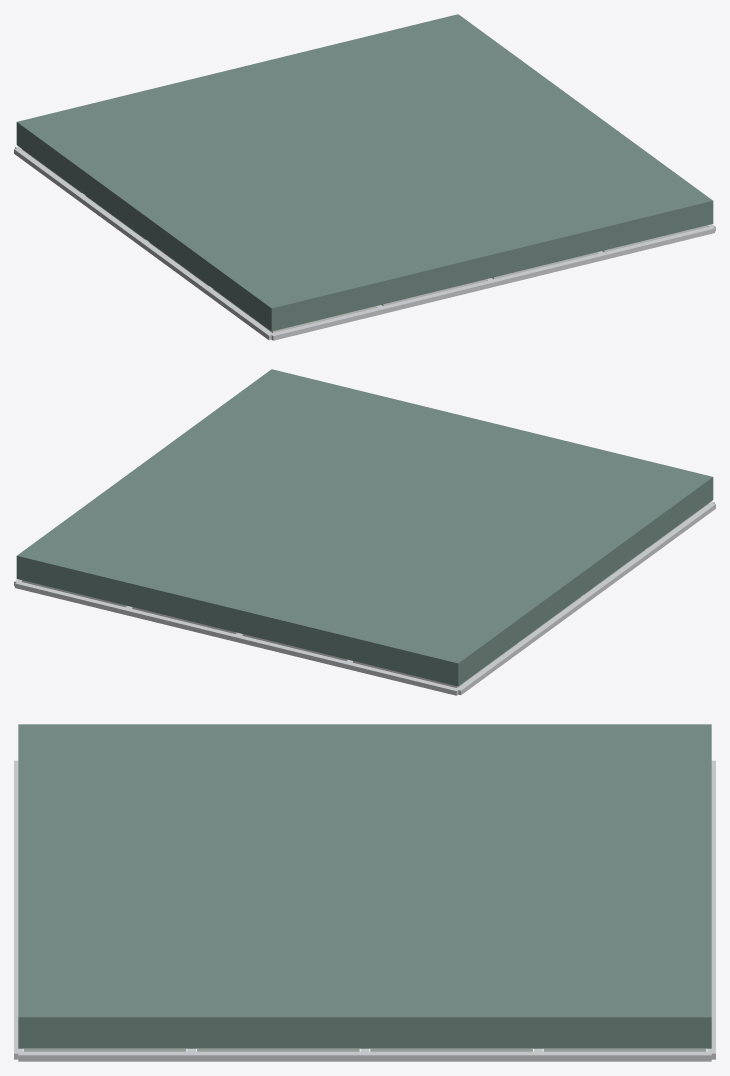
File: ceil_hs_rail.glb
3 views of the same model, one above another, from view 1: azimuth 30°, elevation 25°; view 2: azimuth 150°, elevation 25°; view 3: azimuth 270°, elevation 25° (orthographic). The views are drawn at different scales.
Parts seen in each view (by area): view 1: ceil_hs_rail; view 2: ceil_hs_rail; view 3: ceil_hs_rail.
Boxes of the visible parts, x1,y1,x2,y2 form: ceil_hs_rail: (14,14,715,340); ceil_hs_rail: (14,369,715,695); ceil_hs_rail: (14,724,715,1061).
Size of the model in its own units: 4.05 by 0.3638 by 4.05.
